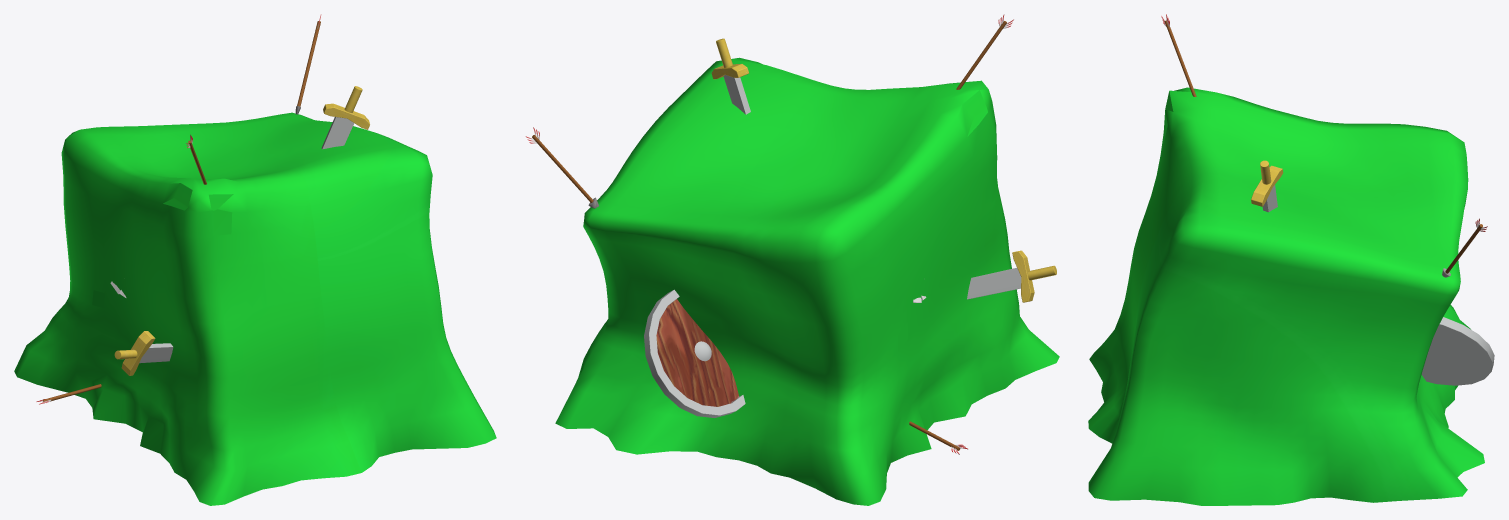
Rendered from slimeNew.fbx.
3 renders of one model, left to right at view 1: azimuth 30°, elevation 25°; view 2: azimuth 150°, elevation 25°; view 3: azimuth 270°, elevation 25°, orthographic. The views are drawn at different scales.
Parts seen in each view (by area): view 1: pCube1, pCube12, pCube13; view 2: pCube1, polySurface8, pCube13, pCube12; view 3: pCube1, polySurface8, pCube12.
Boxes of the visible parts, left/top/right/bottom form: pCube1: left=14, top=112, right=496, bottom=505; pCube12: left=321, top=86, right=369, bottom=149; pCube13: left=114, top=331, right=173, bottom=375; pCube1: left=555, top=57, right=1059, bottom=505; polySurface8: left=644, top=289, right=745, bottom=417; pCube13: left=967, top=250, right=1056, bottom=302; pCube12: left=711, top=38, right=750, bottom=114; pCube1: left=1088, top=87, right=1484, bottom=505; polySurface8: left=1421, top=317, right=1494, bottom=385; pCube12: left=1251, top=160, right=1283, bottom=212.
Size of the model in its own units: 6.49 by 6.11 by 6.41.
3 materials, 3 textured.
